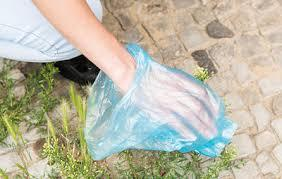Plastic bag: (84, 37, 245, 168)
